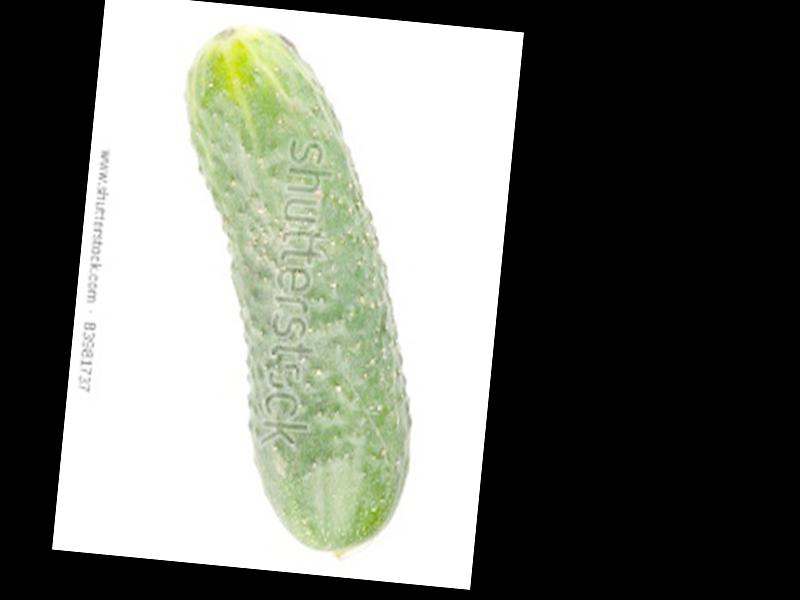Cucumber: (144, 23, 449, 561)
